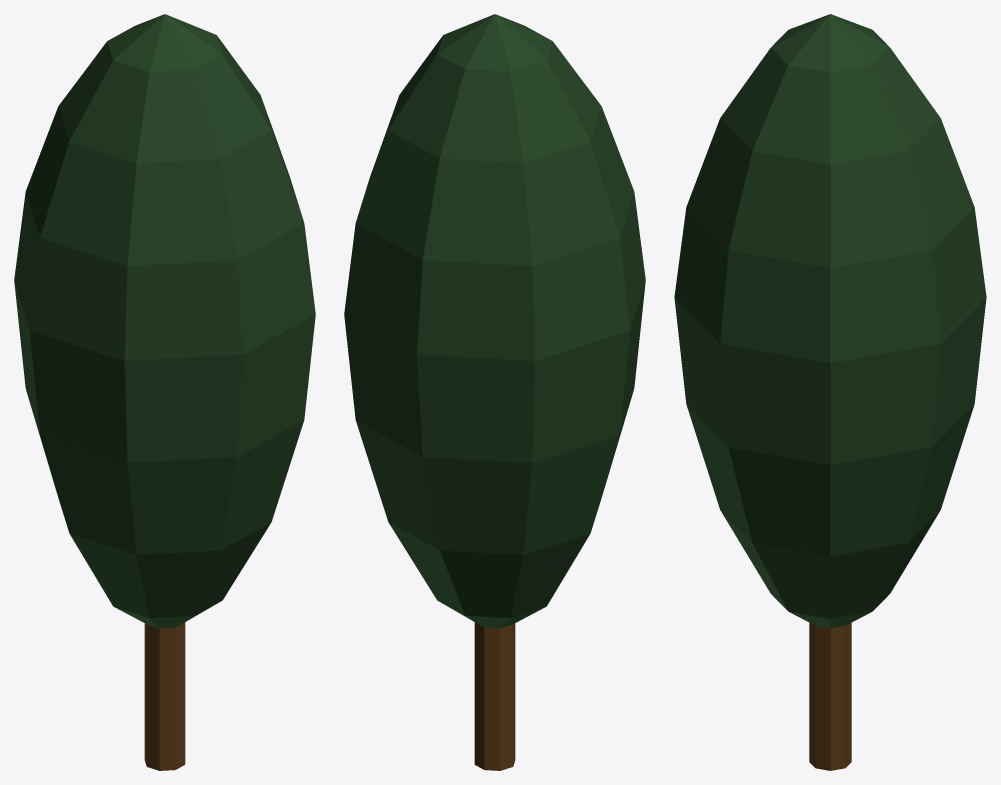
File: Prop_Decorative_Tree_Cedar_3.obj
3 renders of one model, left to right at view 1: azimuth 30°, elevation 25°; view 2: azimuth 150°, elevation 25°; view 3: azimuth 270°, elevation 25°, orthographic.
Parts seen in each view (by area): view 1: Leaves, Trunk; view 2: Leaves, Trunk; view 3: Leaves, Trunk.
Boxes of the visible parts, bbox=[...] form: Leaves: bbox=[14, 14, 315, 628]; Trunk: bbox=[144, 622, 185, 770]; Leaves: bbox=[344, 14, 645, 628]; Trunk: bbox=[474, 622, 515, 770]; Leaves: bbox=[674, 14, 986, 628]; Trunk: bbox=[809, 623, 851, 770].
Size of the model in its own units: 1 by 2.64 by 1.
